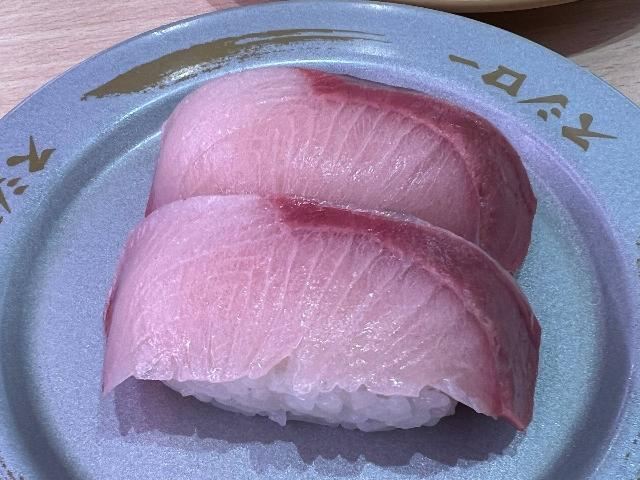janwhite: (21, 51, 628, 474)
